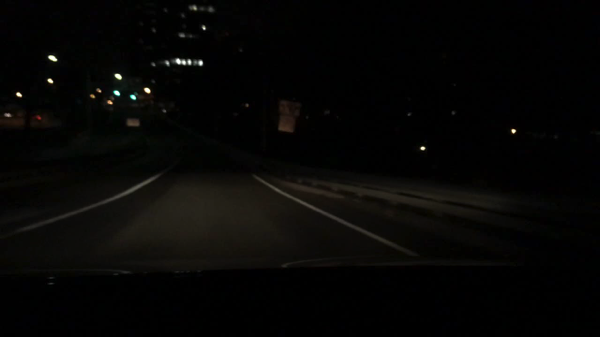traffic light: (128, 94, 142, 102), (111, 89, 121, 98)
traffic sign: (277, 99, 301, 118), (279, 117, 293, 132), (128, 118, 140, 129)
